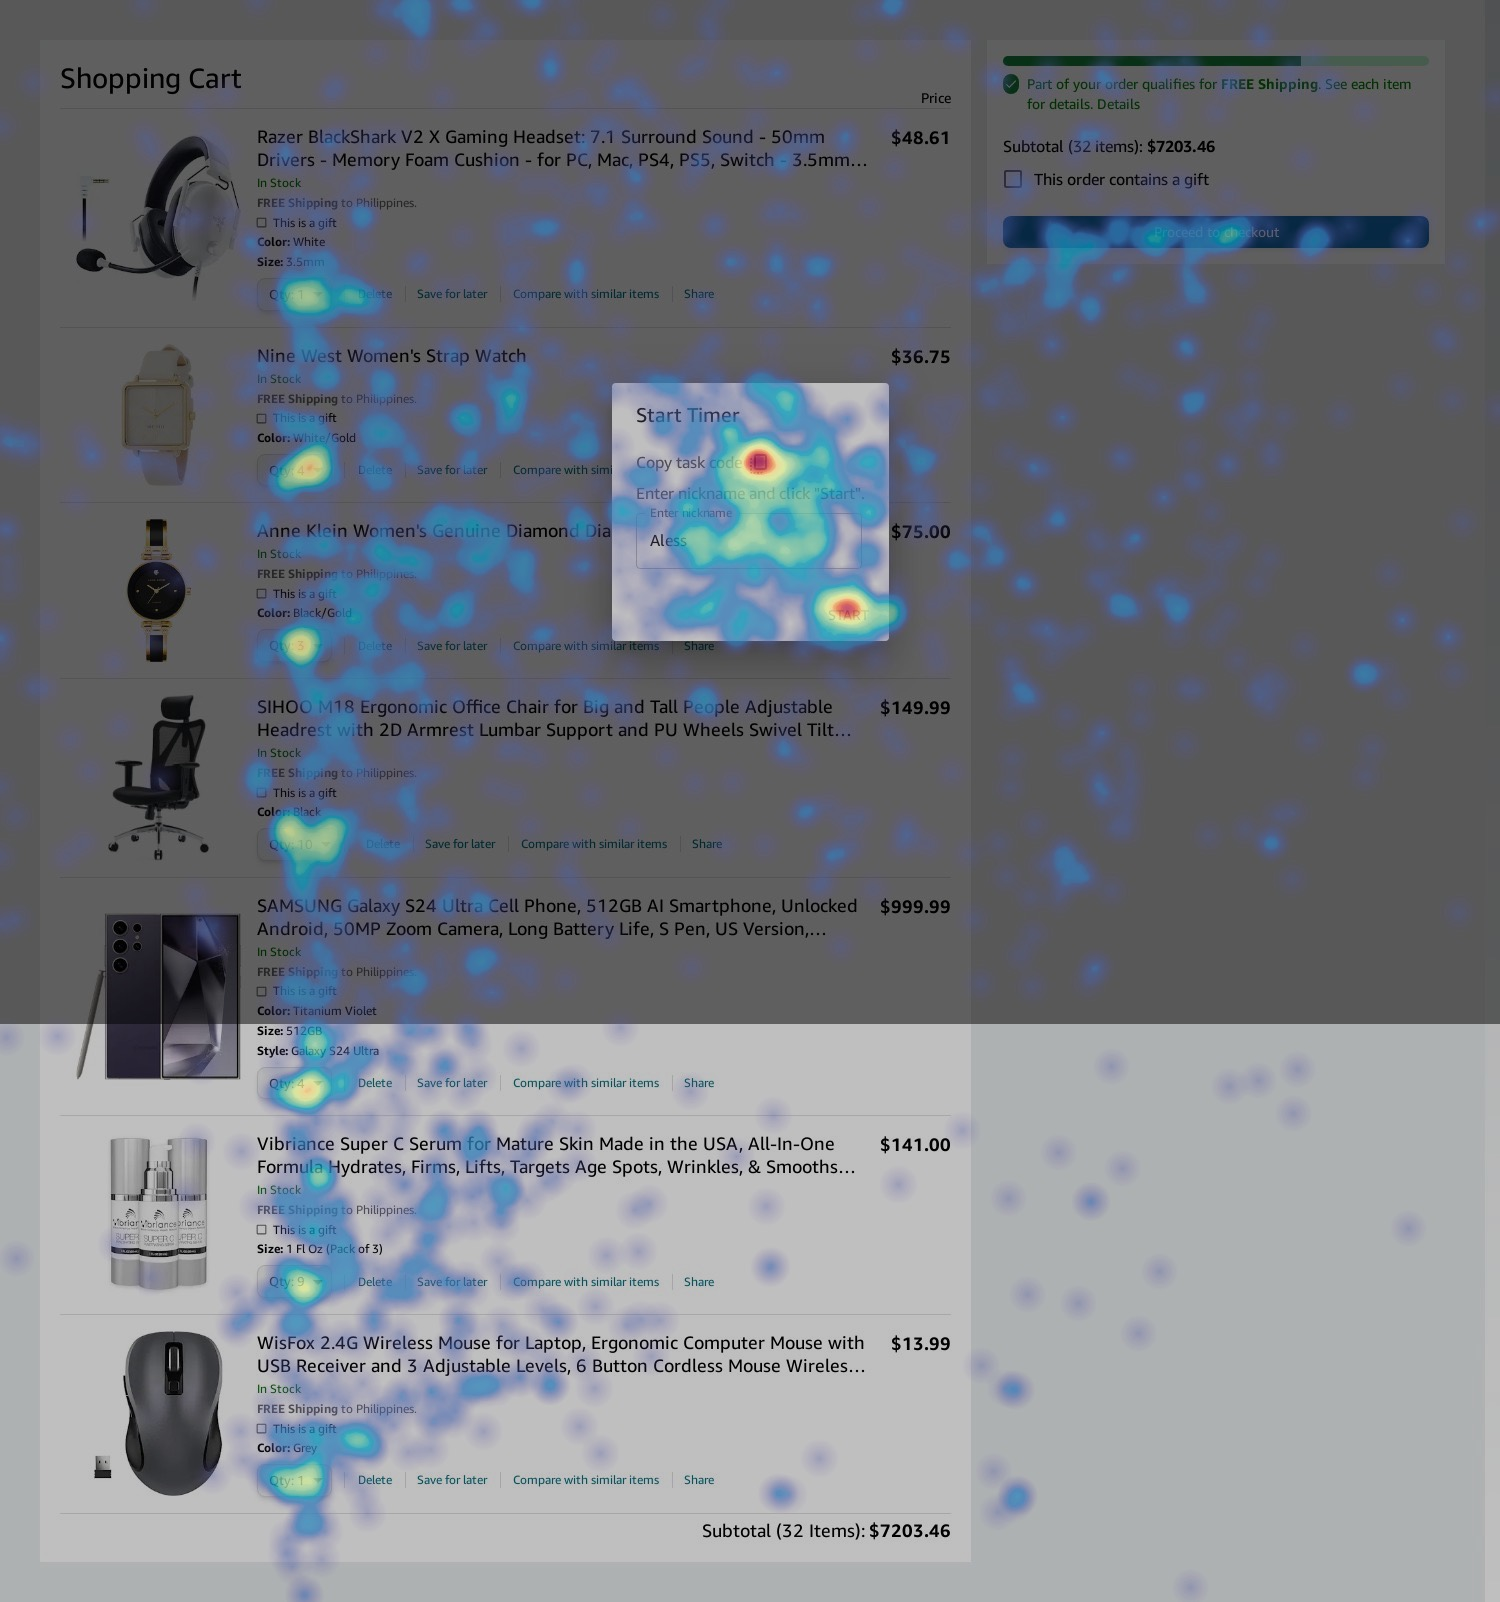checkout: (1005, 214, 1430, 250)
nickname: (636, 518, 861, 568)
qty: (259, 626, 341, 661), (254, 1068, 336, 1103), (255, 278, 336, 313), (259, 451, 340, 487), (259, 825, 340, 860), (258, 1266, 338, 1302), (257, 1460, 337, 1493)
start: (805, 594, 885, 630)
task_code: (742, 446, 775, 481)
